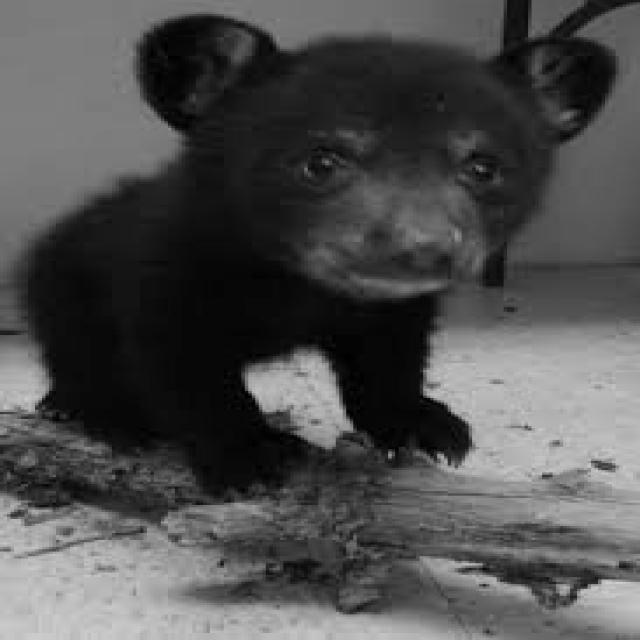Bear: (20, 15, 620, 501)
